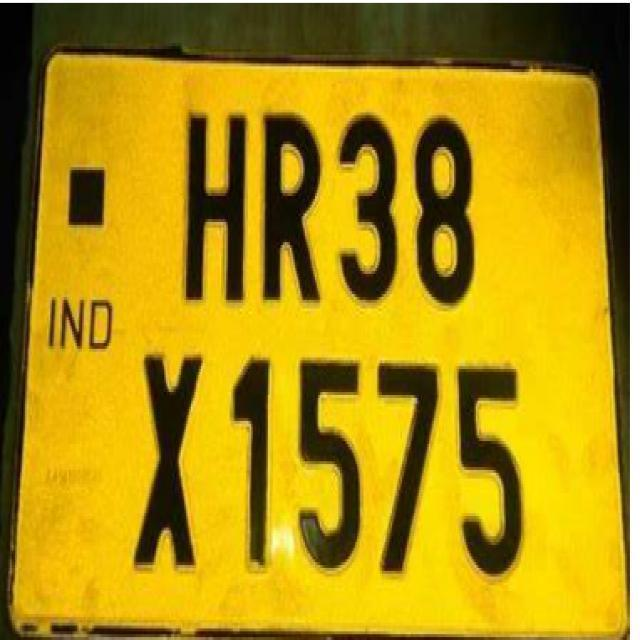1: (226, 346, 276, 578)
3: (336, 104, 404, 310)
5: (452, 353, 530, 584), (292, 348, 363, 574)
7: (372, 352, 444, 586)
8: (410, 111, 480, 312)
H: (181, 105, 249, 308)
R: (258, 108, 326, 312)
X: (132, 342, 208, 587)
